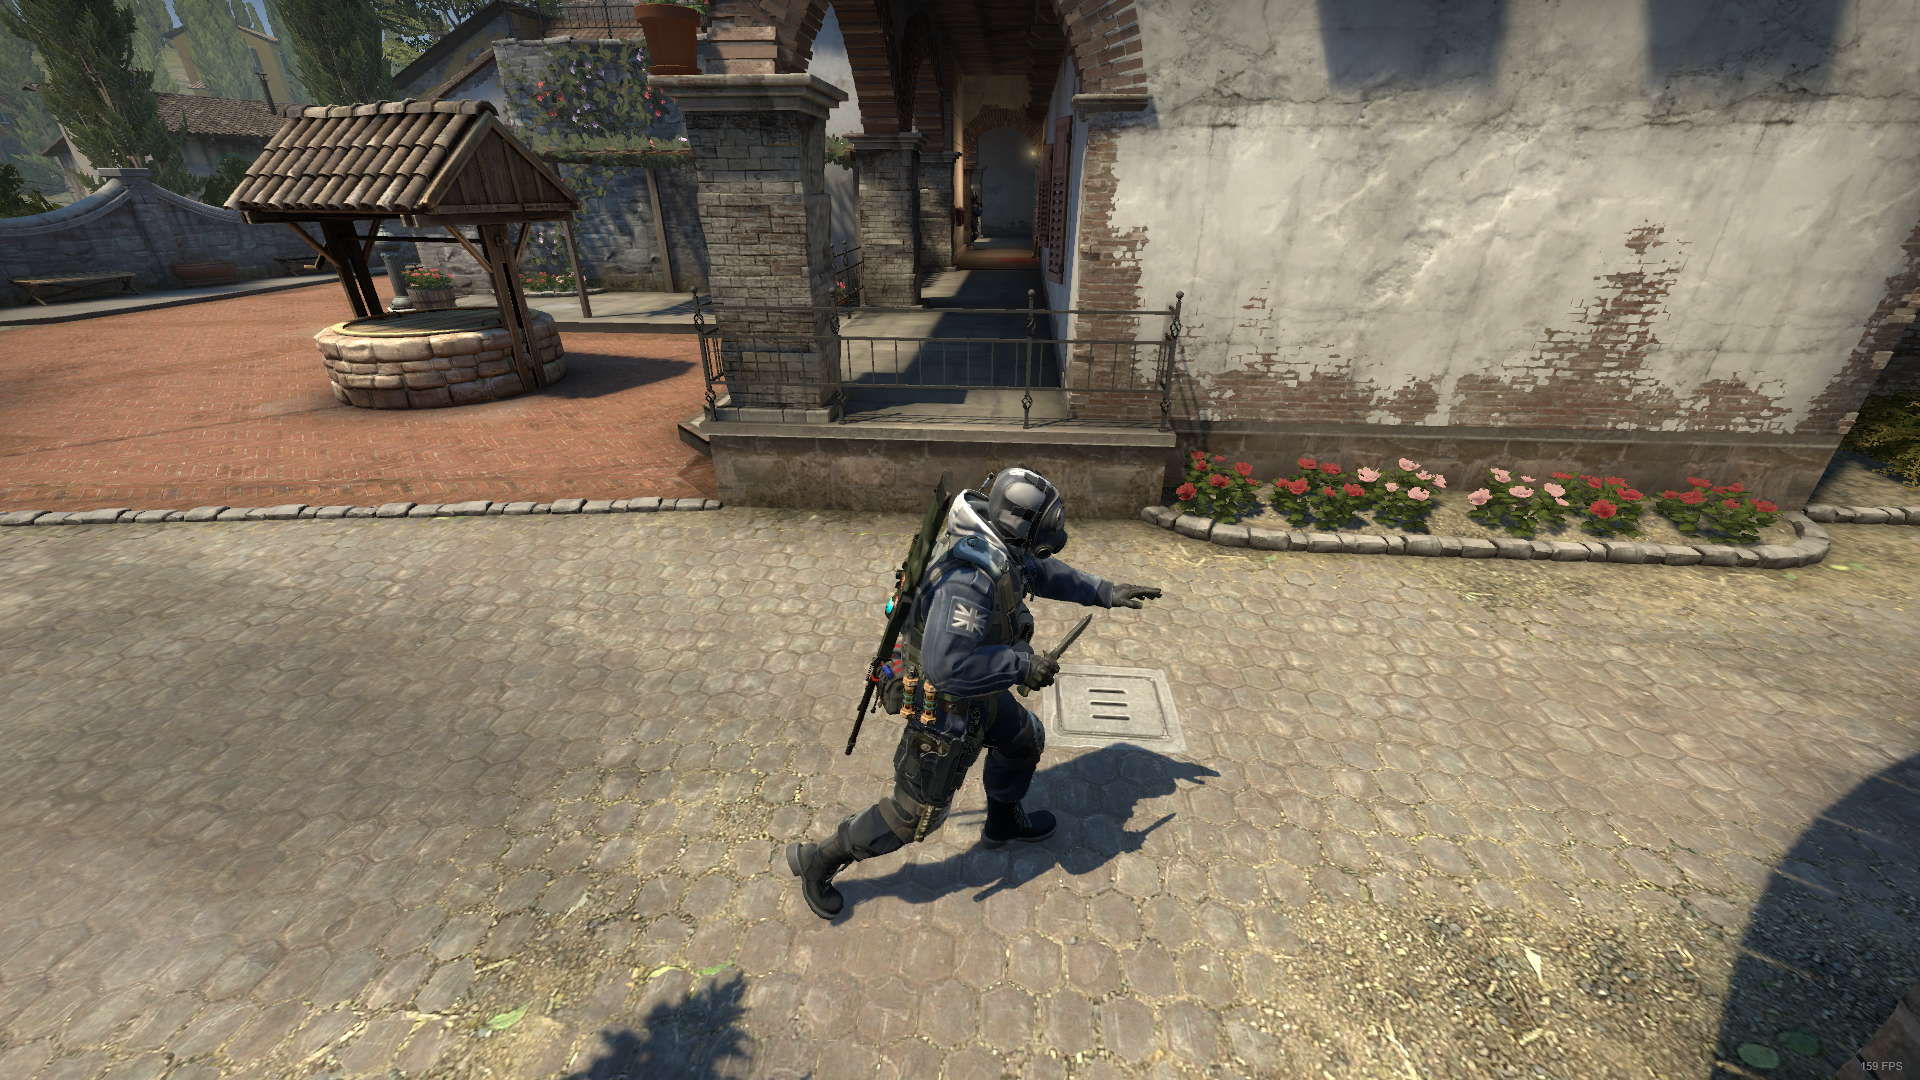ct: (786, 468, 1164, 924)
